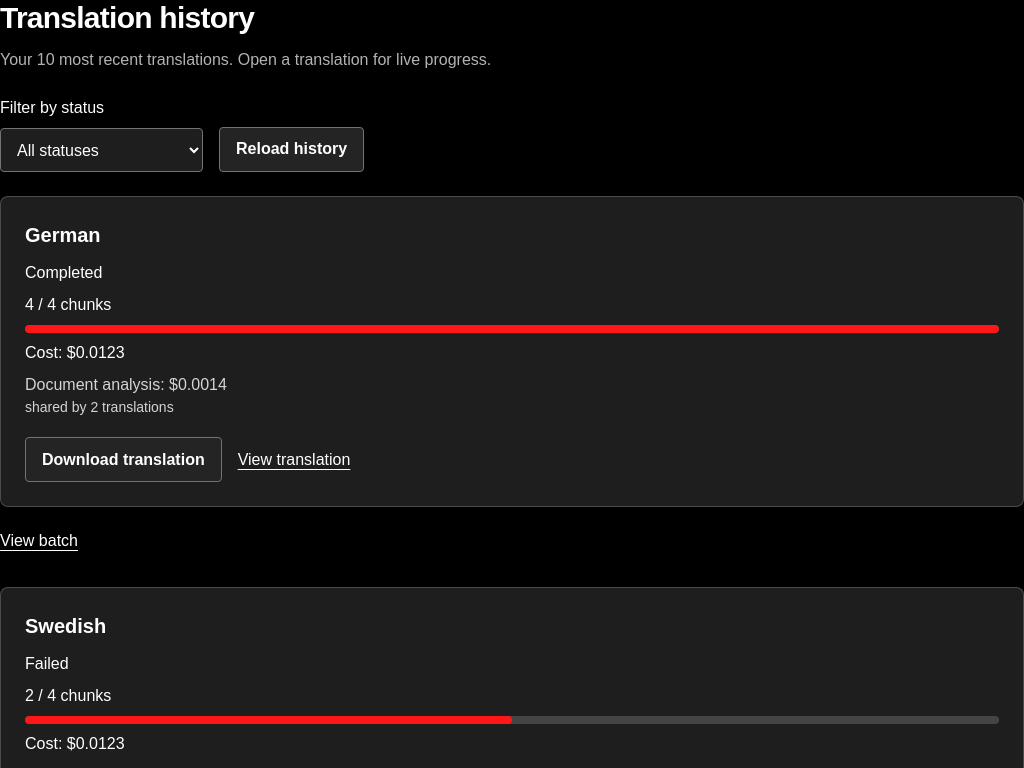
Scenario: translation history › counts only visible translations when a status filter changes
Expected: the element named "Translation to German" is shown, [0, 196, 1023, 507]
Expected: the element named "Document analysis cost, shared by 2 translations" is shown, [25, 376, 227, 415]
Select "Failed" in the dropdown labelled "Filter by status" at (102, 150), box [0, 128, 203, 172]
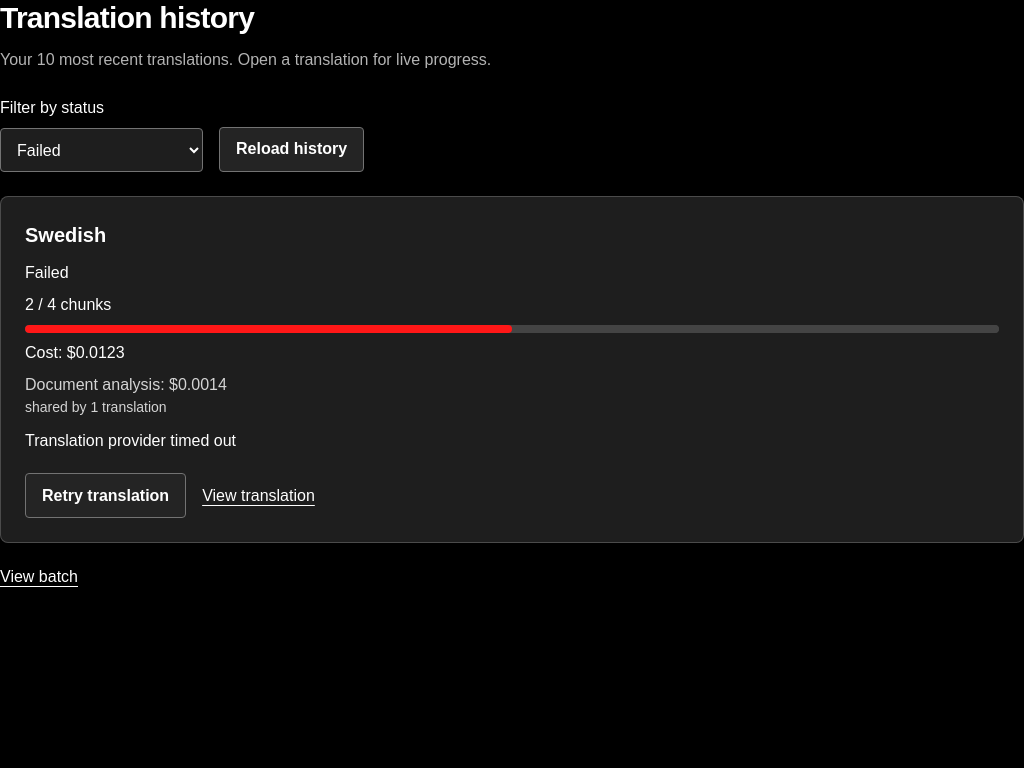
Now the element named "Document analysis cost, shared by 1 translation" is shown, box [25, 376, 227, 415]
